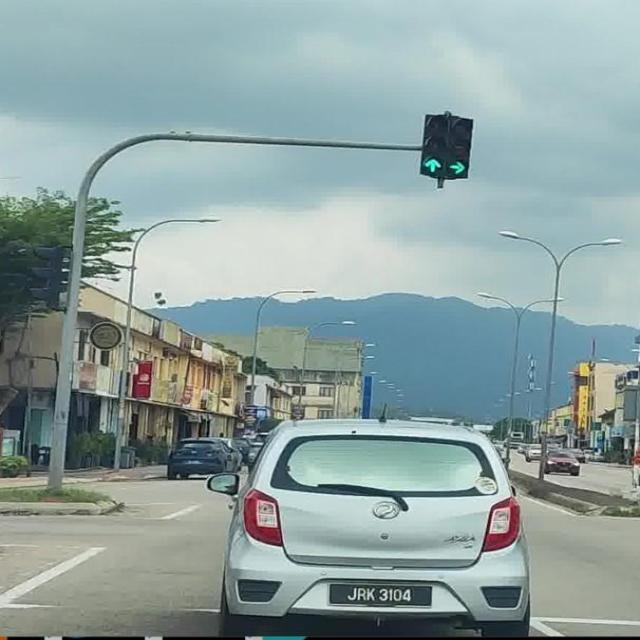green_light: (448, 115, 476, 179), (421, 112, 448, 176)
